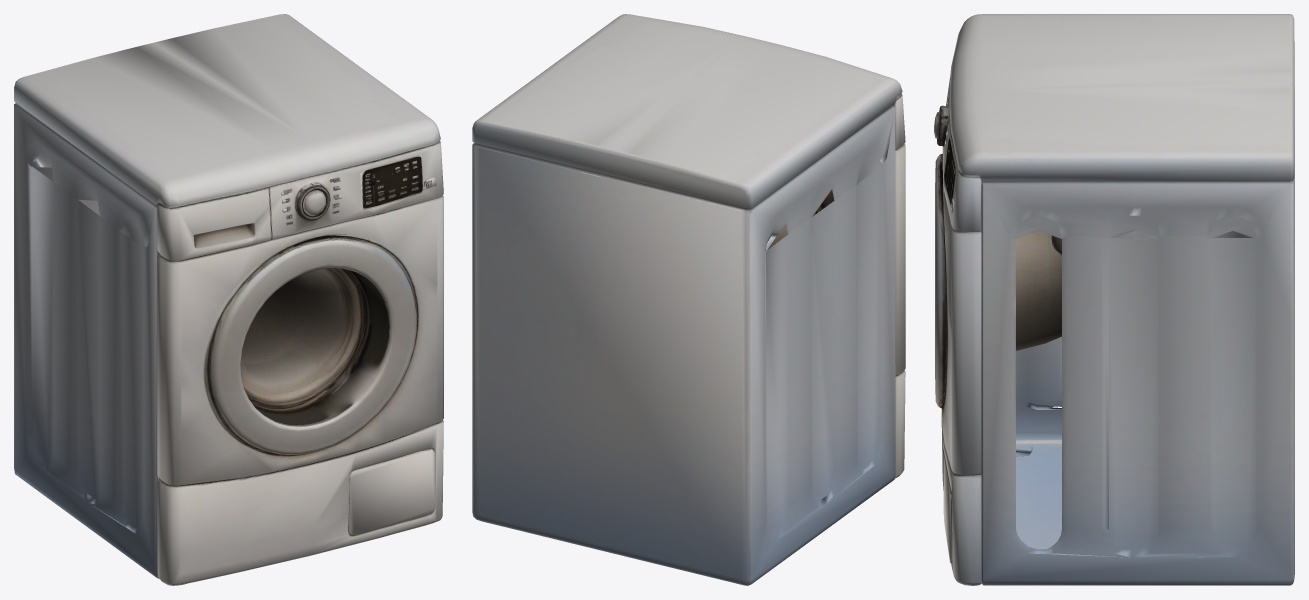
File: a_dryer_19043371_v1.glb
The picture shows the model from 3 angles, left to right: view 1: azimuth 30°, elevation 25°; view 2: azimuth 150°, elevation 25°; view 3: azimuth 270°, elevation 25°; orthographic projection. The views are drawn at different scales.
Parts seen in each view (by area): view 1: material; view 2: material; view 3: material.
Boxes of the visible parts, x1,y1,x2,y2 form: material: (14, 14, 443, 585); material: (472, 14, 905, 585); material: (934, 14, 1294, 585).
Size of the model in its own units: 1.38 by 1.9 by 1.42.
Materials: 1 (1 with a texture image).
